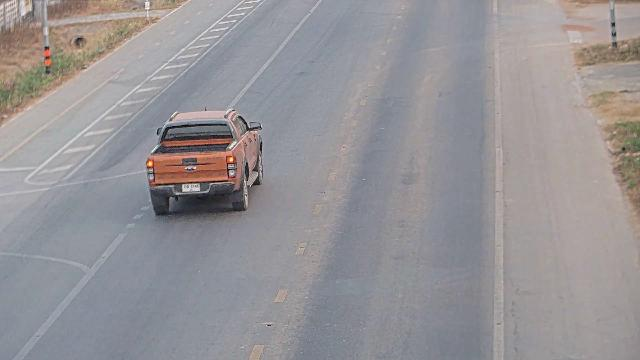pickup-truck: (145, 106, 264, 215)
